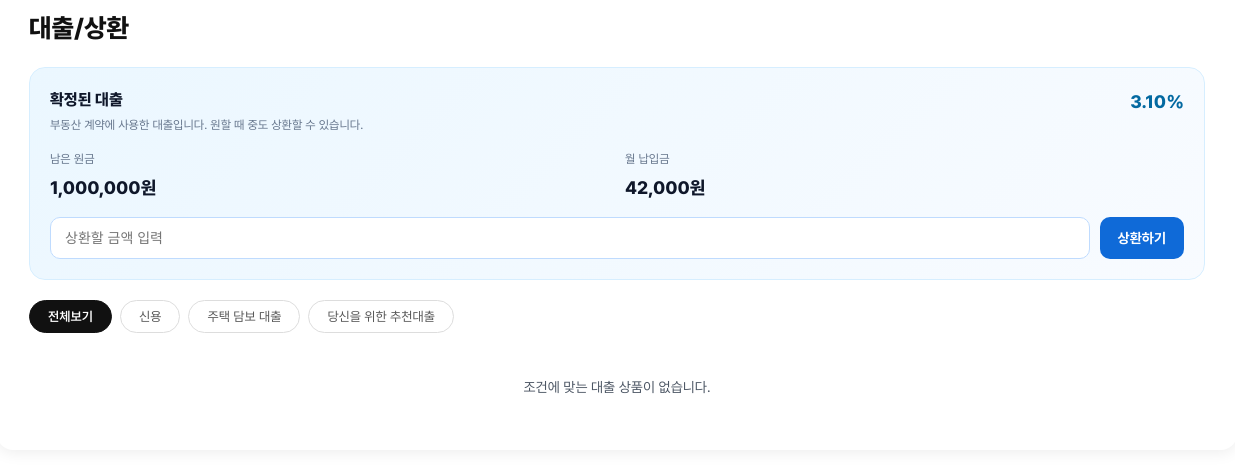
Test: LoanProductsPanel › repays part of the active loan and updates the remaining principal
Step 1. Type "200000" into the field with placeholder "상환할 금액 입력" → (570, 238), box [50,217,1090,259]
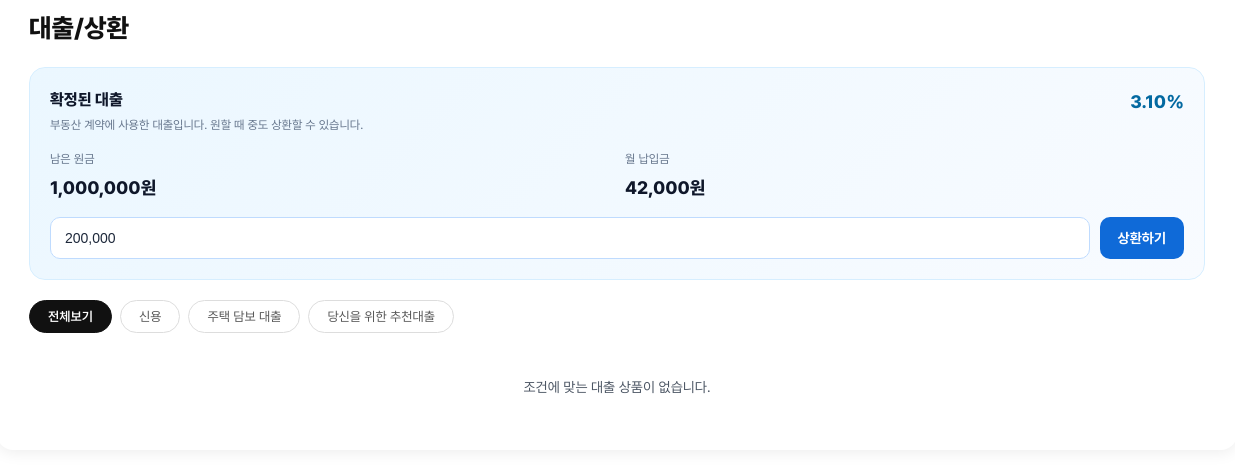
Step 2. Click the button "상환하기" → (1142, 238), box [1100,217,1184,259]
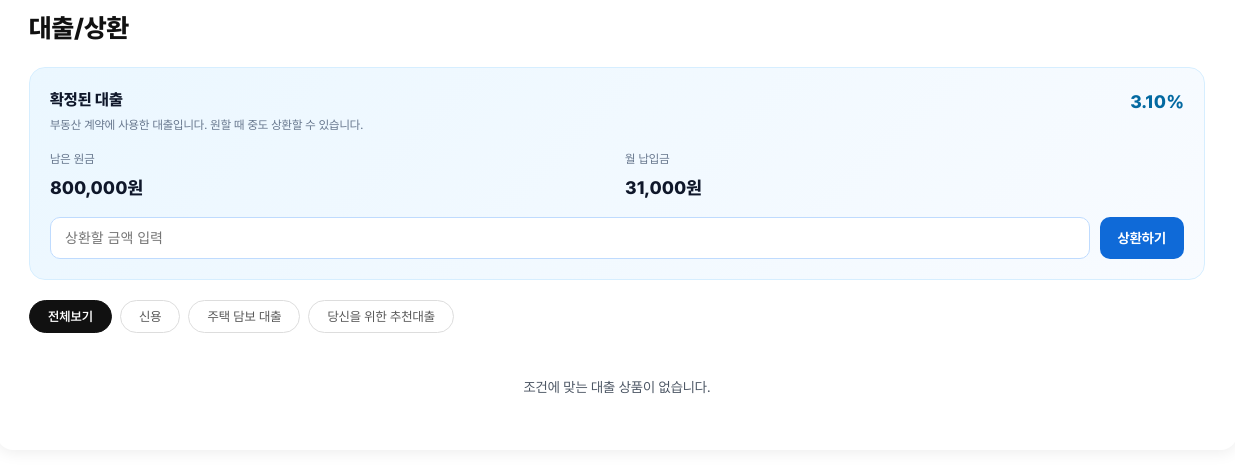
Result: the text "800,000원" is shown at [50,177,143,198]
Result: the text "31,000원" is shown at [625,177,702,198]
